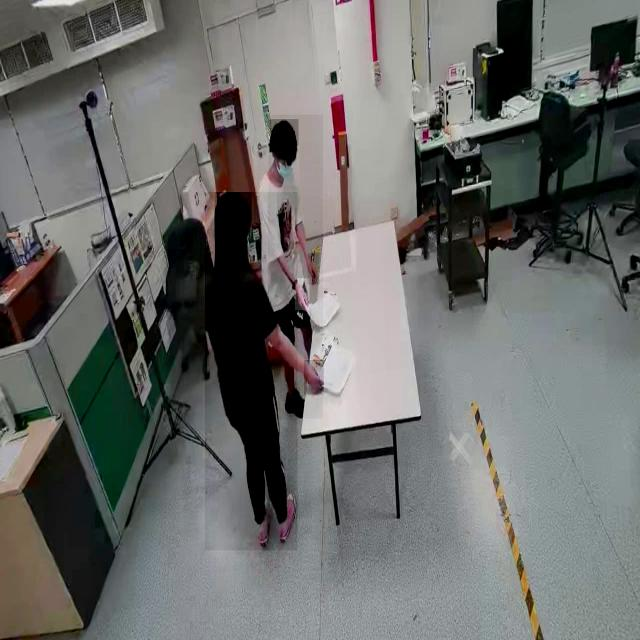face_mask: (272, 141, 300, 186)
hand_noglove: (304, 360, 324, 396), (294, 278, 310, 311), (307, 253, 319, 286)
head_nohelmet: (214, 192, 252, 222), (270, 119, 298, 147)
person: (205, 192, 298, 551), (268, 114, 323, 420)
shoes: (277, 487, 300, 546), (256, 493, 274, 551), (241, 526, 241, 526)
